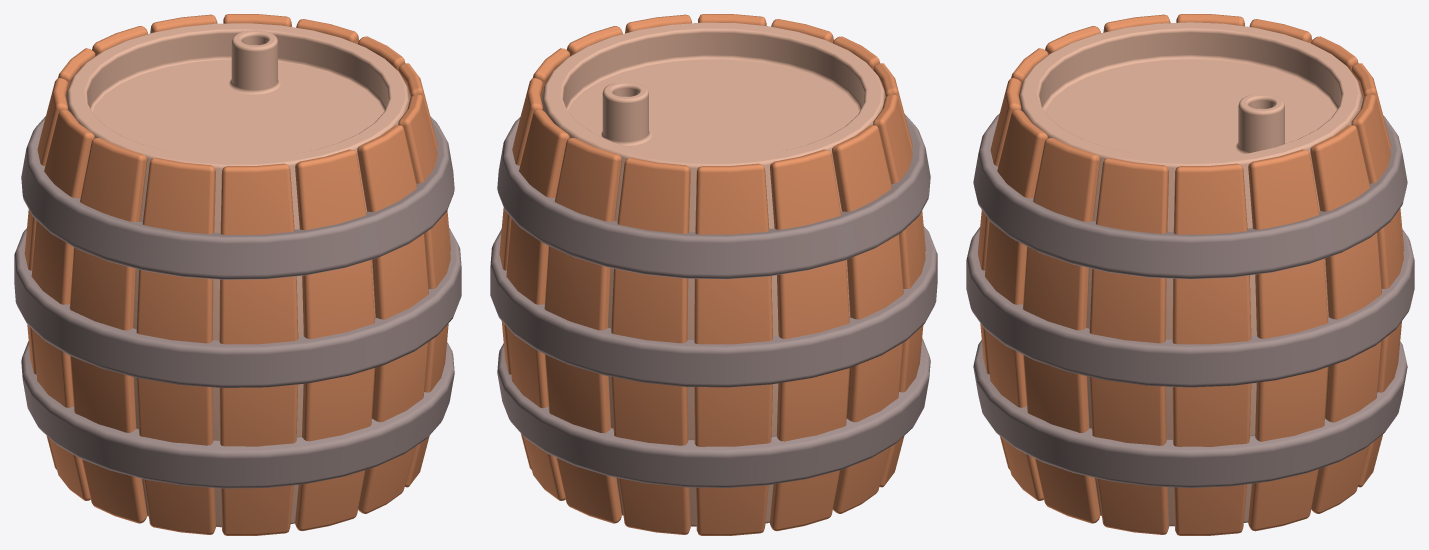
3 views of the same model, side by side, from view 1: azimuth 30°, elevation 25°; view 2: azimuth 150°, elevation 25°; view 3: azimuth 270°, elevation 25° (orthographic).
Parts seen in each view (by area): view 1: Cylinder.001, Cylinder.002, БОЧКА; view 2: Cylinder.001, Cylinder.002, БОЧКА; view 3: Cylinder.001, Cylinder.002, БОЧКА.
Part boxes in pixels (bbox=[...]): Cylinder.001: bbox=[24, 14, 450, 535]; Cylinder.002: bbox=[14, 116, 461, 488]; БОЧКА: bbox=[66, 23, 410, 527]; Cylinder.001: bbox=[499, 14, 925, 535]; Cylinder.002: bbox=[490, 114, 937, 487]; БОЧКА: bbox=[541, 22, 885, 526]; Cylinder.001: bbox=[978, 14, 1404, 535]; Cylinder.002: bbox=[966, 114, 1414, 487]; БОЧКА: bbox=[1019, 22, 1362, 526].
Bounding box in the file's own units: 228 × 214 × 228.
